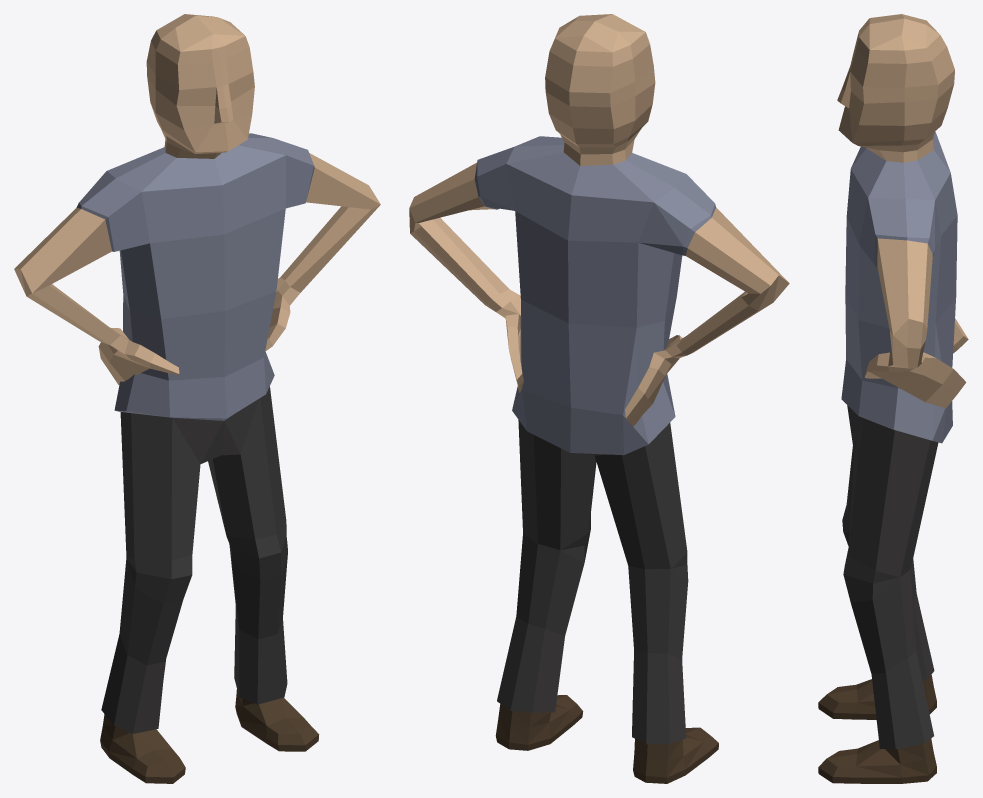
File: Male_Standing_Hips.glb
3 renders of one model, left to right at view 1: azimuth 30°, elevation 25°; view 2: azimuth 150°, elevation 25°; view 3: azimuth 270°, elevation 25°, orthographic.
Parts seen in each view (by area): view 1: Male_Standing_Hips; view 2: Male_Standing_Hips; view 3: Male_Standing_Hips.
Boxes of the visible parts, bbox=[...] form: Male_Standing_Hips: bbox=[14, 14, 380, 783]; Male_Standing_Hips: bbox=[409, 14, 789, 783]; Male_Standing_Hips: bbox=[818, 14, 968, 783].
Size of the model in its own units: 1.98 by 3.82 by 0.7207.
